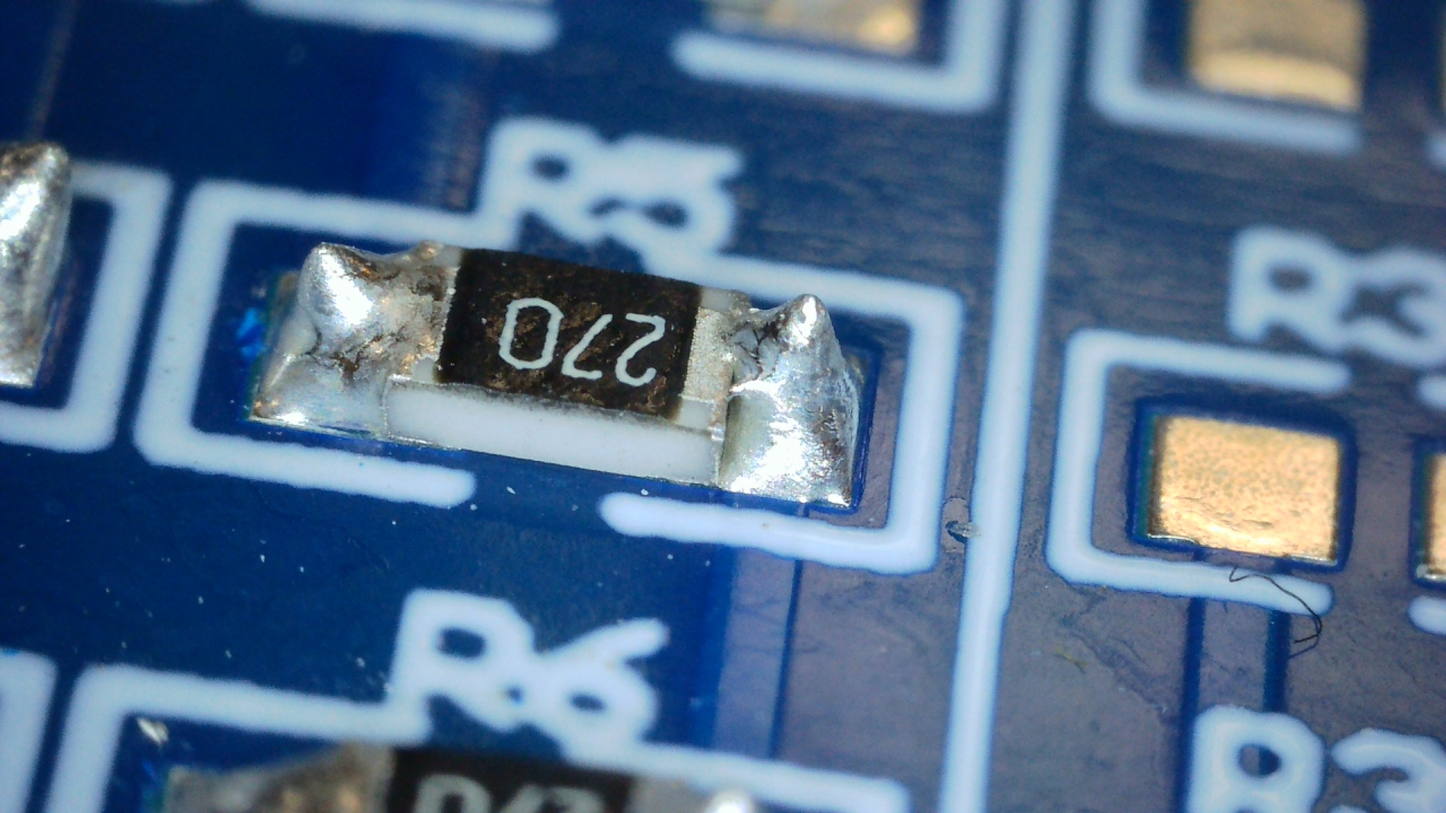NG: (263, 245, 412, 428), (728, 296, 858, 501)
